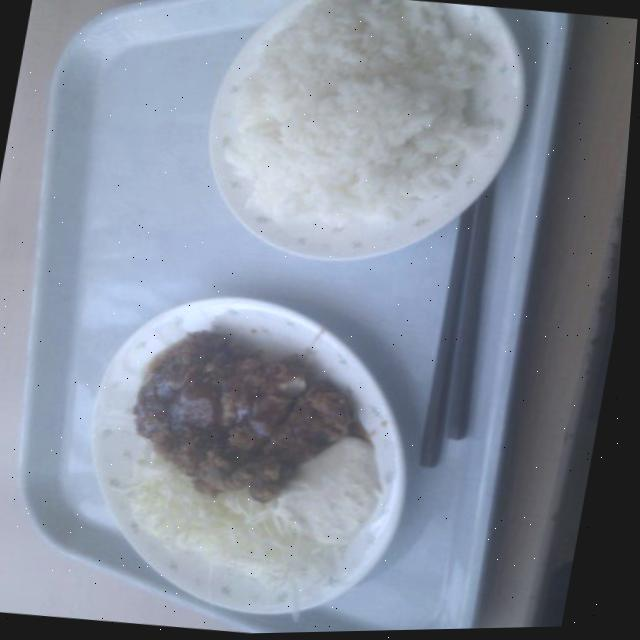米饭主食: (182, 0, 544, 264)
